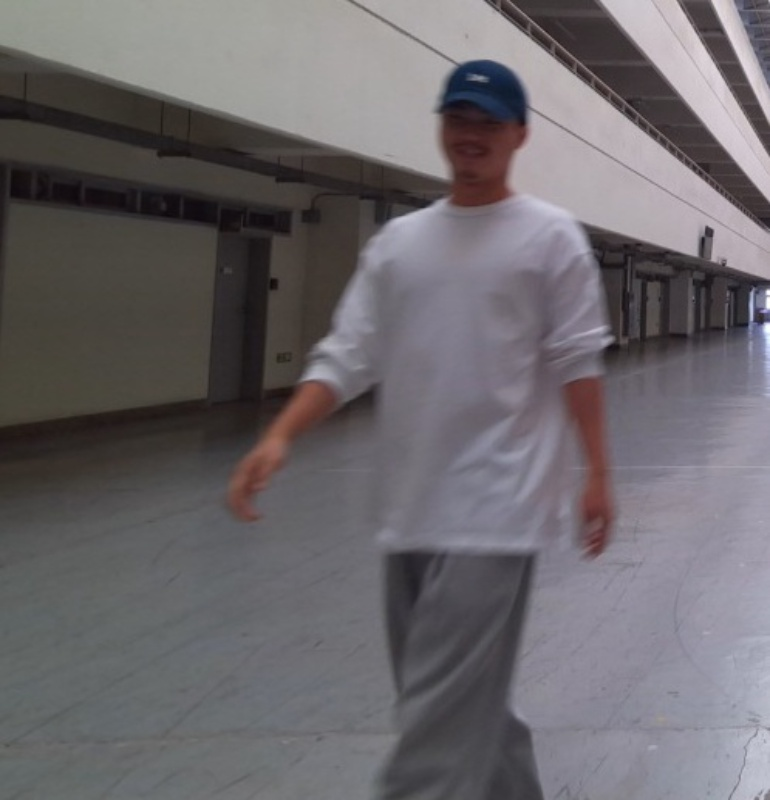person: (220, 57, 615, 800)
